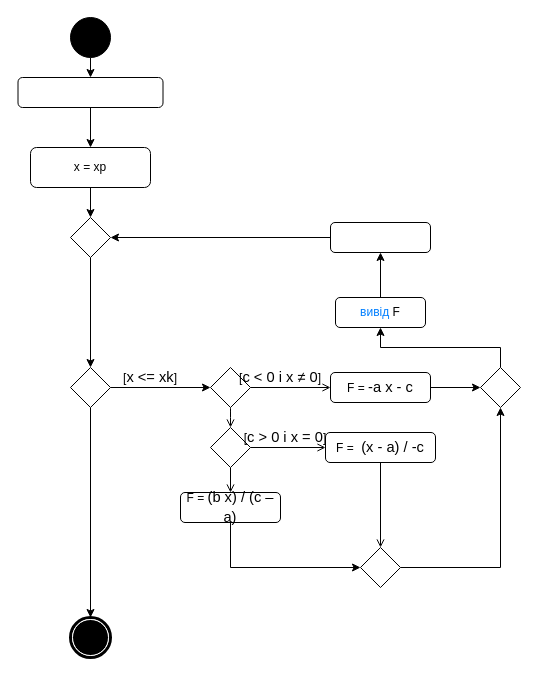
This 538x675 diagram has some shape labels left out. Each missing label, with the box of its shape:
x += dx: (330, 222, 430, 252)
ввід a, b, c, xp, xk, dx: (17, 76, 163, 108)
